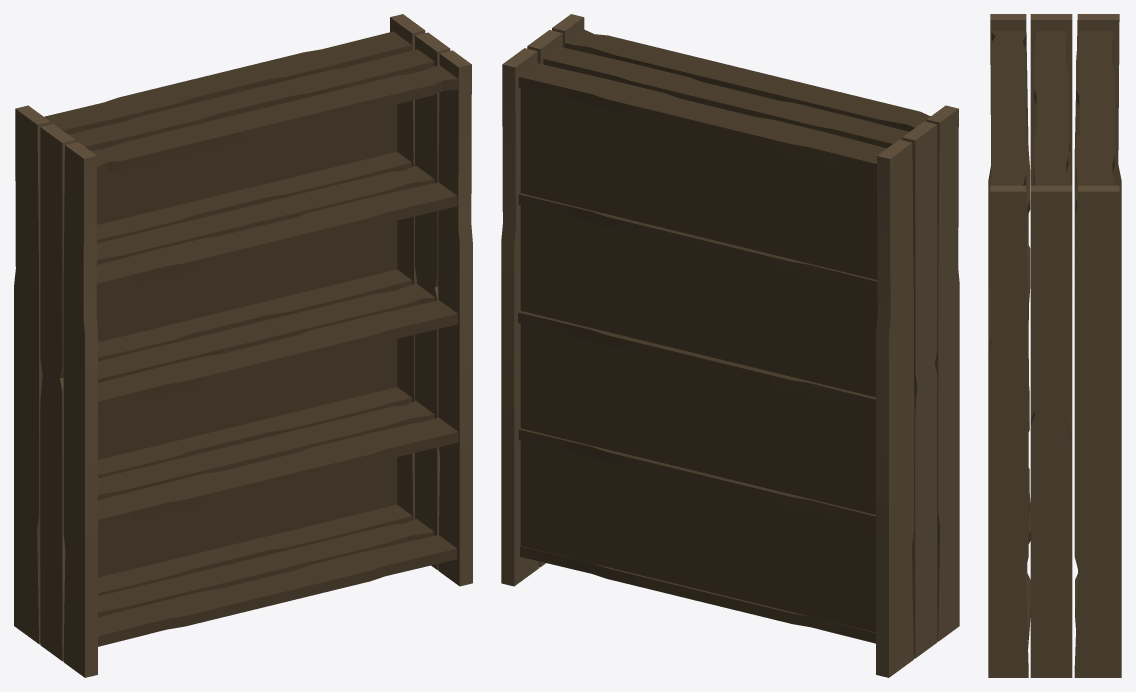
File: Bookcase_Empty.glb
3 renders of one model, left to right at view 1: azimuth 30°, elevation 25°; view 2: azimuth 150°, elevation 25°; view 3: azimuth 270°, elevation 25°, orthographic. The views are drawn at different scales.
Visible parts, largest first — view 1: DarkWood, Wood; view 2: DarkWood, Wood; view 3: Wood, DarkWood.
Boxes of the visible parts, left/top/right/bottom form: DarkWood: left=44, top=31, right=458, bottom=646; Wood: left=14, top=14, right=472, bottom=677; DarkWood: left=518, top=29, right=930, bottom=643; Wood: left=501, top=14, right=959, bottom=677; Wood: left=988, top=14, right=1121, bottom=677; DarkWood: left=990, top=31, right=1114, bottom=648.
Bounding box in the file's own units: 2.08 × 2.65 × 0.6582.
